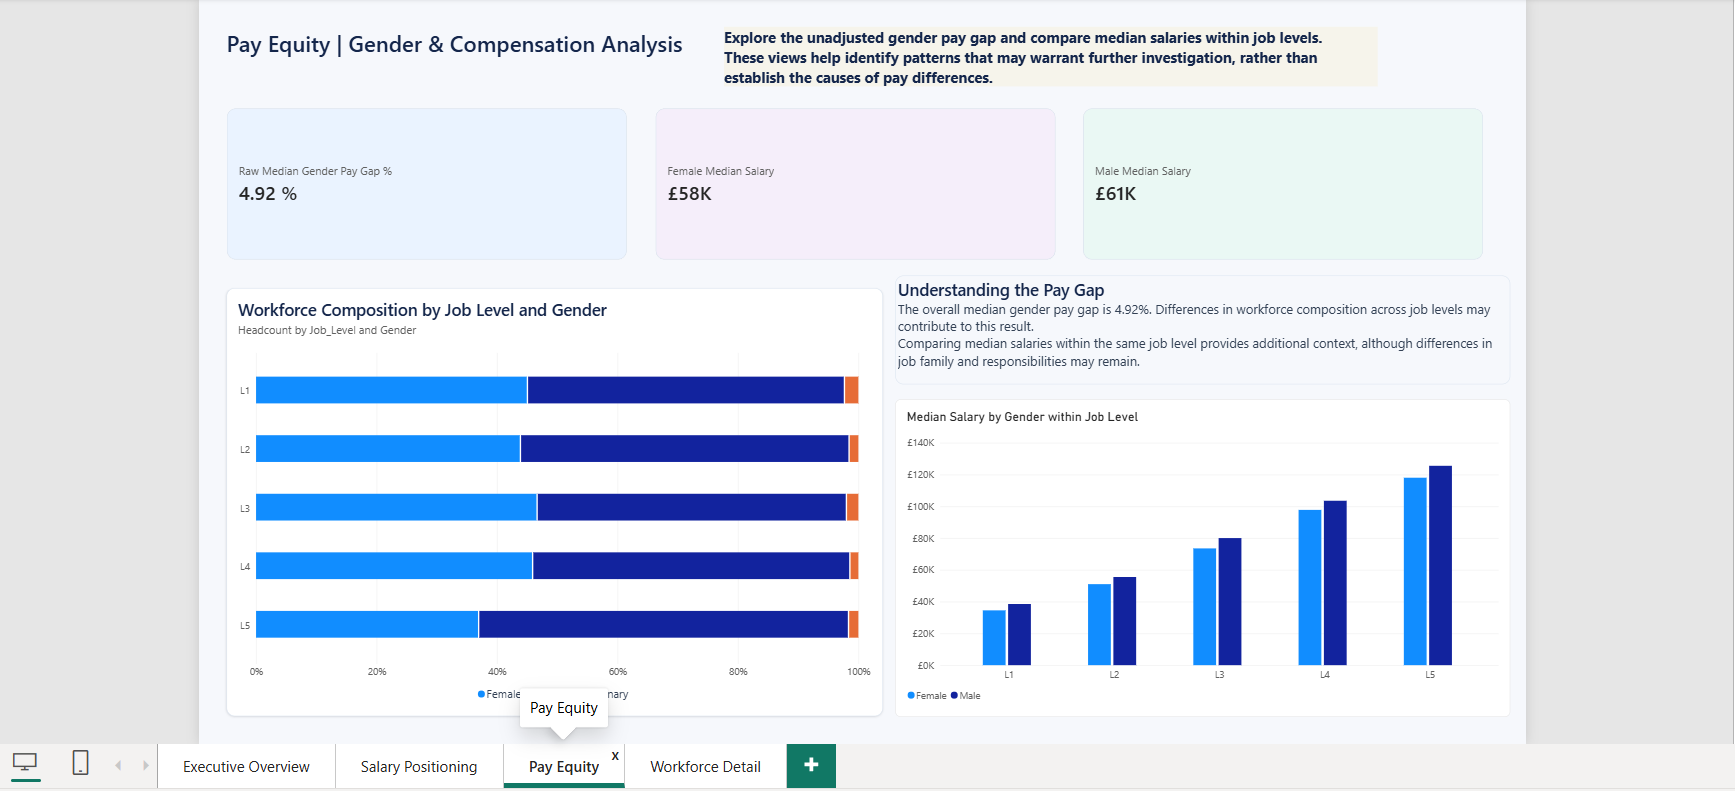

The page's visual inventory and layout, read from the dashboard file:
{"tool":"powerbi","page":{"name":"Pay Equity","canvas":[1920,1080],"ordinal":2},"visuals":[{"type":"cardVisual","fields":{"Data":["_Measures.Raw Median Gender Pay Gap %"]},"box":[40,160,580,220],"z":0},{"type":"cardVisual","fields":{"Data":["_Measures.Female Median Salary"]},"box":[660,160,580,220],"z":1000},{"type":"cardVisual","fields":{"Data":["_Measures.Male Median Salary"]},"box":[1280,160,580,220],"z":2000},{"type":"hundredPercentStackedBarChart","title":"Workforce Composition by Job Level and Gender","fields":{"Category":["Fact_Compensation.Job_Level"],"Series":["Fact_Compensation.Gender"],"Y":["_Measures.Headcount"]},"box":[40,420,950,620],"z":3000},{"type":"textbox","box":[40,8,720,100],"z":4000},{"type":"textbox","box":[1008.9,402,890.6,157.6],"z":5000},{"type":"clusteredColumnChart","title":"Median Salary by Gender within Job Level","fields":{"Category":["Fact_Compensation.Job_Level"],"Series":["Fact_Compensation.Gender"],"Y":["_Measures.Median Salary"]},"box":[1008.9,580.6,890.6,459.8],"z":6000},{"type":"textbox","box":[760,42,946,86],"z":6001}]}

Visuals, with their boxes on the page's 1920x1080 design canvas (x1, y1, x2, y2). These are canvas units, not pixel positions in the 1735x791 screenshot, which may show the page scaled, cropped or inside an application window:
cardVisual - _Measures.Raw Median Gender Pay Gap %: [40, 160, 620, 380]
cardVisual - _Measures.Female Median Salary: [660, 160, 1240, 380]
cardVisual - _Measures.Male Median Salary: [1280, 160, 1860, 380]
"Workforce Composition by Job Level and Gender" hundredPercentStackedBarChart: [40, 420, 990, 1040]
textbox: [40, 8, 760, 108]
textbox: [1009, 402, 1900, 560]
"Median Salary by Gender within Job Level" clusteredColumnChart: [1009, 581, 1900, 1040]
textbox: [760, 42, 1706, 128]
